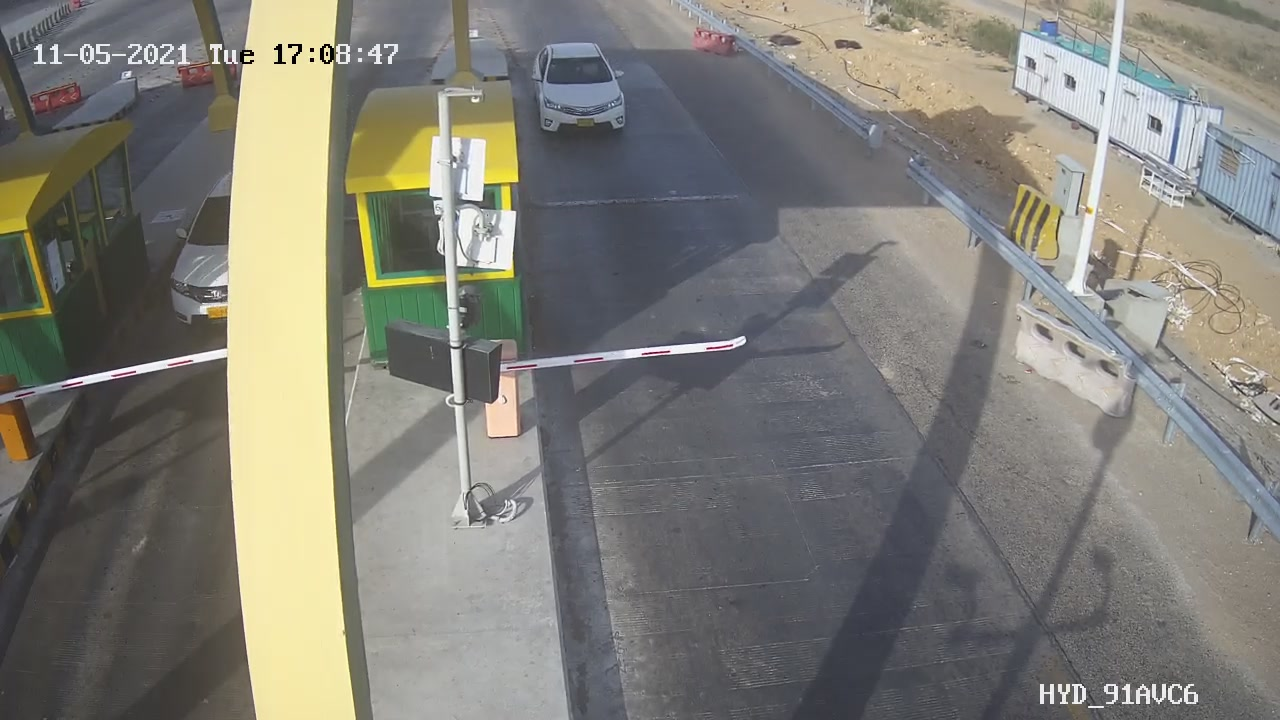F1: (518, 27, 647, 152)
